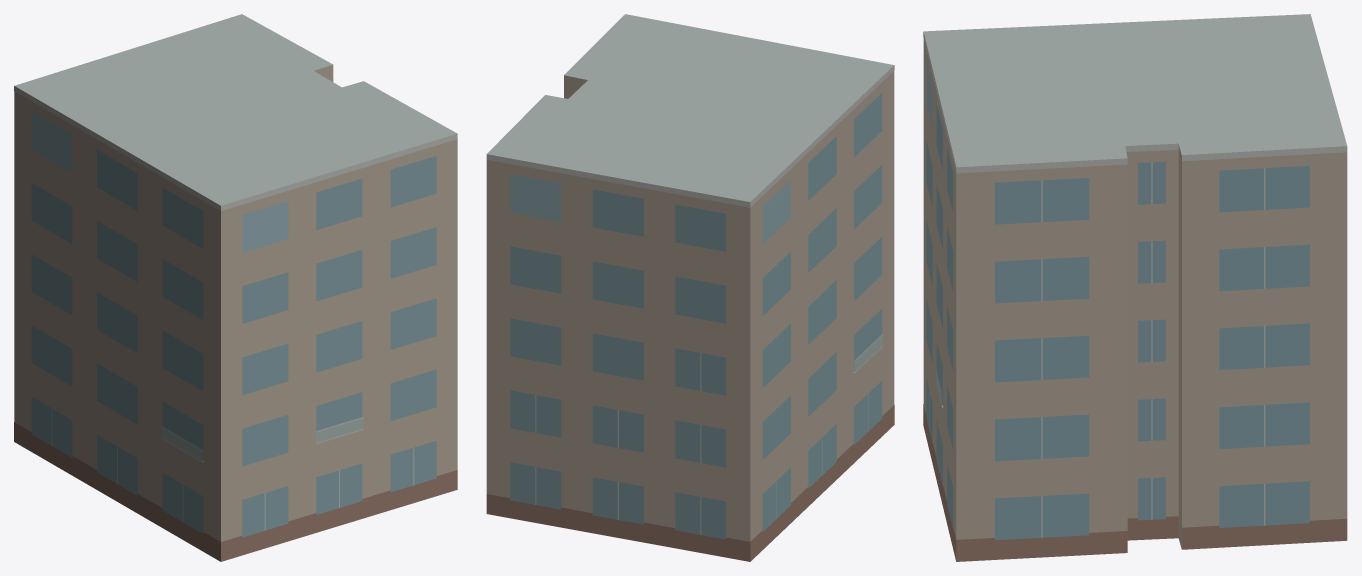
File: survey-upis-32663447.glb
3 views of the same model, side by side, from view 1: azimuth 30°, elevation 25°; view 2: azimuth 150°, elevation 25°; view 3: azimuth 270°, elevation 25° (orthographic). The views are drawn at different scales.
Parts seen in each view (by area): view 1: survey-upis-32663447.tmp; view 2: survey-upis-32663447.tmp; view 3: survey-upis-32663447.tmp.
Boxes of the visible parts, left/top/right/bottom form: survey-upis-32663447.tmp: left=14, top=14, right=457, bottom=561; survey-upis-32663447.tmp: left=486, top=14, right=894, bottom=561; survey-upis-32663447.tmp: left=923, top=14, right=1347, bottom=561.
Bounding box in the file's own units: 13.24 × 15.87 × 15.46.
